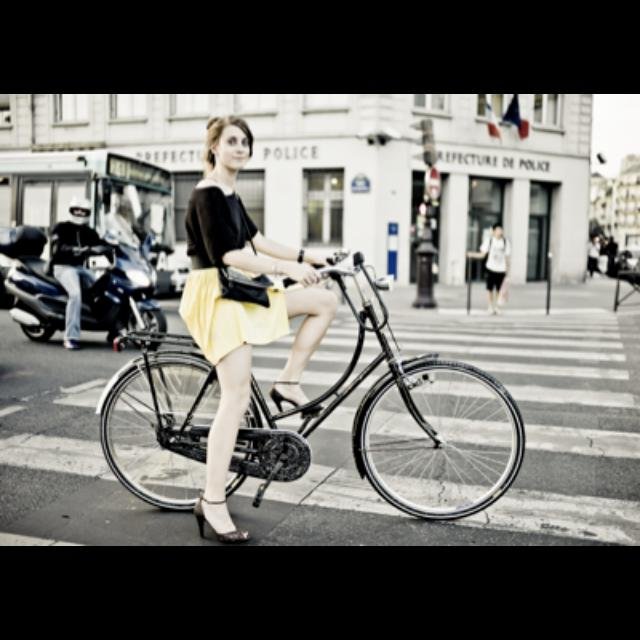Without Helmet: (202, 110, 256, 170)
